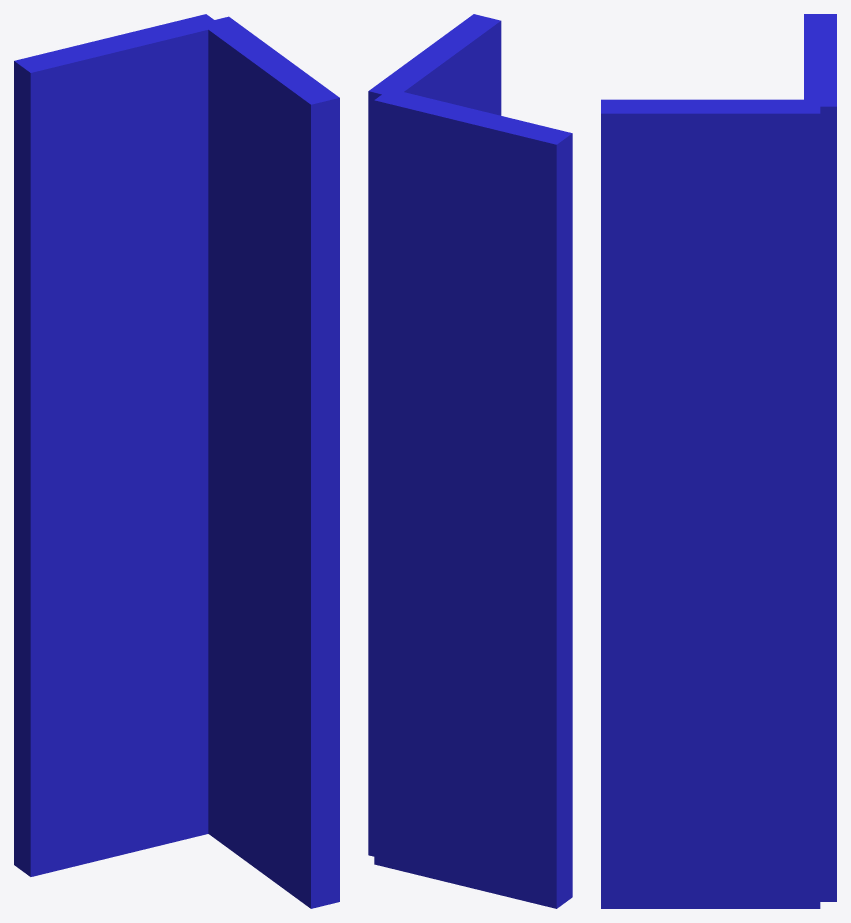
Rendered from WallCorner.fbx.
The picture shows the model from 3 angles, left to right: view 1: azimuth 30°, elevation 25°; view 2: azimuth 150°, elevation 25°; view 3: azimuth 270°, elevation 25°; orthographic projection. The views are drawn at different scales.
Visible parts, largest first — view 1: Cube, Cube.001; view 2: Cube, Cube.001; view 3: Cube.001, Cube.
Part boxes in pixels (x1,y1,x2,y2): Cube: [14, 14, 222, 876]; Cube.001: [202, 16, 339, 908]; Cube: [374, 88, 572, 908]; Cube.001: [368, 14, 501, 856]; Cube.001: [601, 99, 820, 908]; Cube: [804, 14, 836, 901].
Bounding box in the file's own units: 108 × 400 × 108.
